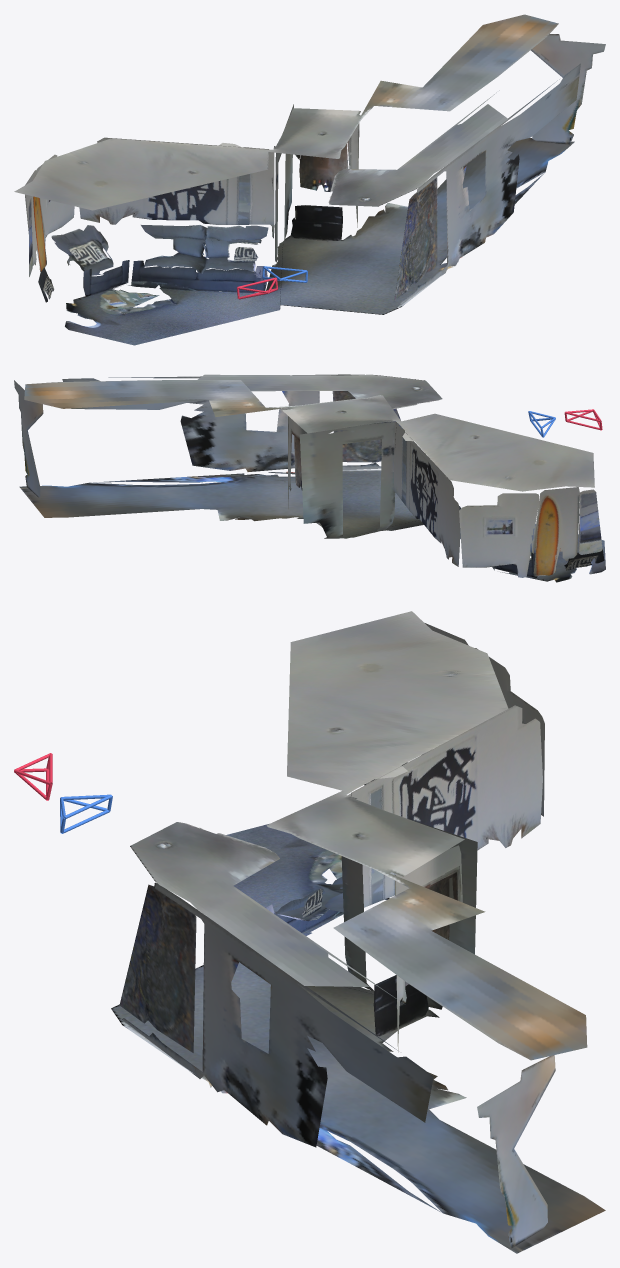
The picture shows the model from 3 angles, top to bottom: view 1: azimuth 30°, elevation 25°; view 2: azimuth 150°, elevation 25°; view 3: azimuth 270°, elevation 25°; orthographic projection. The views are drawn at different scales.
Parts seen in each view (by area): view 1: Node; view 2: Node; view 3: Node.
Boxes of the visible parts, x1,y1,x2,y2 form: Node: (14,14,605,345); Node: (14,374,605,582); Node: (14,611,605,1253).
Size of the model in its own units: 12.84 by 2.43 by 6.84.
Materials: 30 (28 with a texture image).
